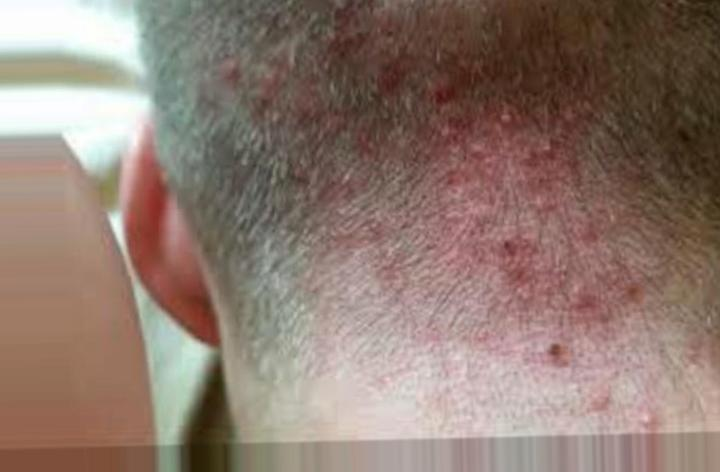Folliculitis: (368, 54, 661, 380)
